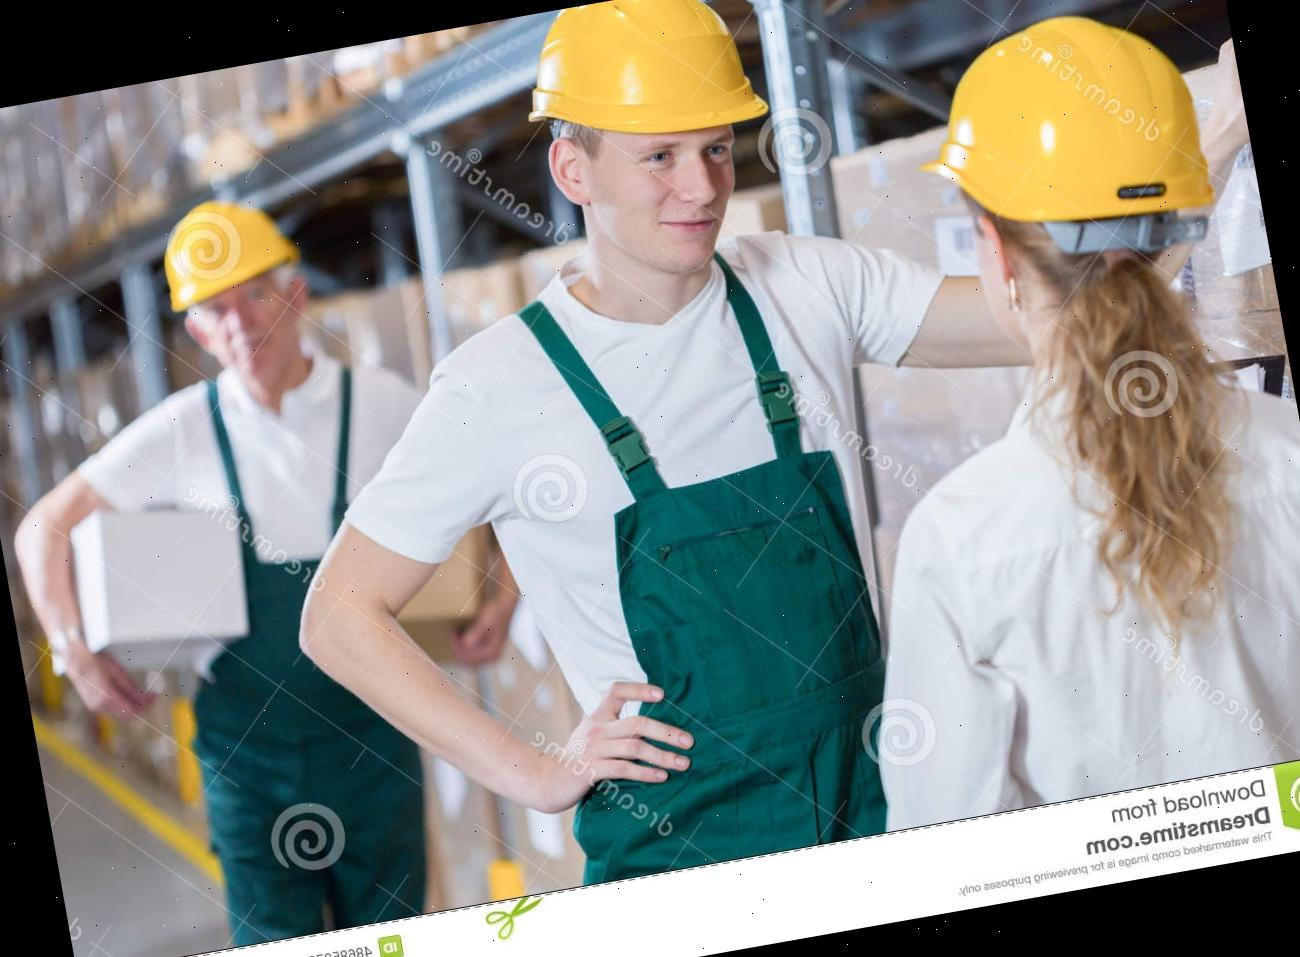helmet: (926, 0, 1220, 274), (505, 0, 770, 173), (149, 182, 310, 320)
no_wear: (461, 253, 926, 785), (824, 377, 1300, 832), (120, 366, 377, 608)
